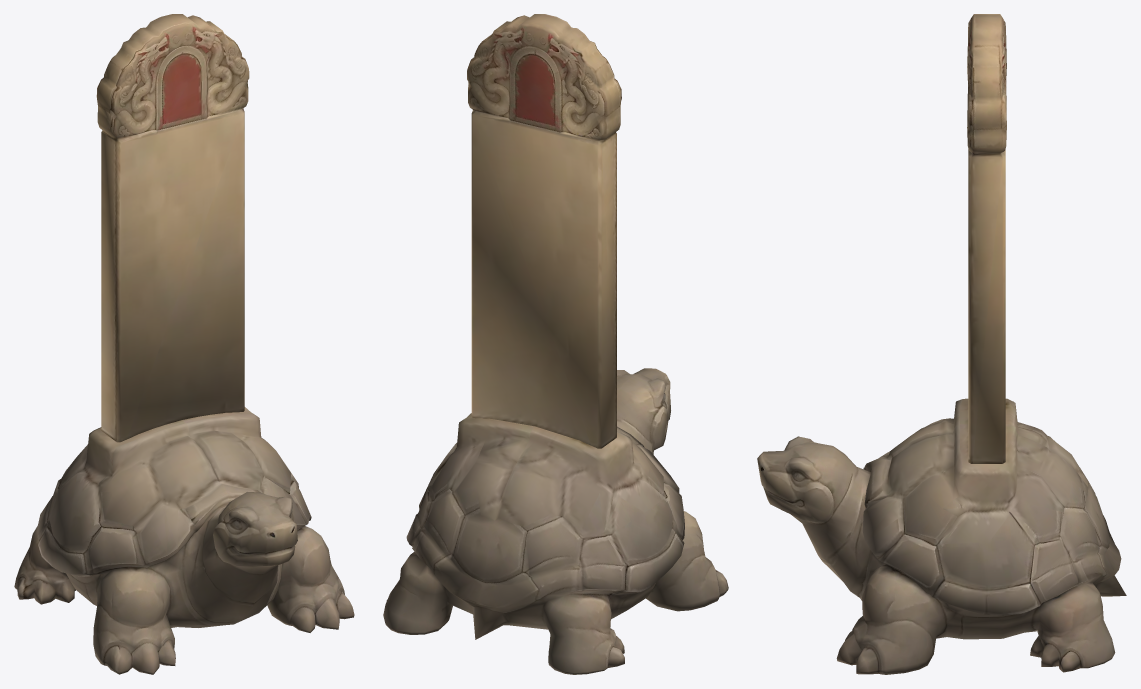
File: SM_Prop_DesertStele.glb
3 renders of one model, left to right at view 1: azimuth 30°, elevation 25°; view 2: azimuth 150°, elevation 25°; view 3: azimuth 270°, elevation 25°, orthographic. The views are drawn at different scales.
Parts seen in each view (by area): view 1: SM_Prop_DesertStele_LOD0; view 2: SM_Prop_DesertStele_LOD0; view 3: SM_Prop_DesertStele_LOD0.
Part boxes in pixels (<box>): SM_Prop_DesertStele_LOD0: <box>14,14,354,674</box>; SM_Prop_DesertStele_LOD0: <box>383,14,728,674</box>; SM_Prop_DesertStele_LOD0: <box>757,14,1126,674</box>.
Bounding box in the file's own units: 1.68 × 3.8 × 2.14.
Materials: 1 (1 with a texture image).
